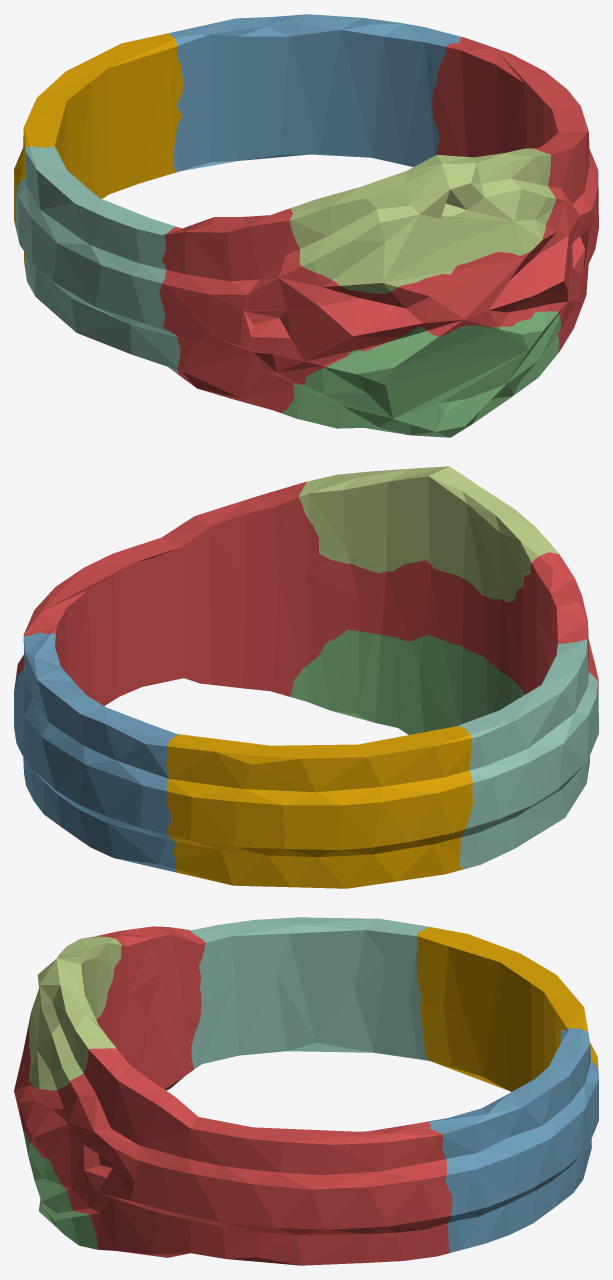
File: mode_7_6pcs.glb
The picture shows the model from 3 angles, top to bottom: view 1: azimuth 30°, elevation 25°; view 2: azimuth 150°, elevation 25°; view 3: azimuth 270°, elevation 25°; orthographic projection. The views are drawn at different scales.
Visible parts, largest first — view 1: piece_1.obj, piece_2.obj, piece_5.obj, piece_4.obj, piece_3.obj, piece_0.obj; view 2: piece_1.obj, piece_0.obj, piece_2.obj, piece_5.obj, piece_4.obj, piece_3.obj; view 3: piece_1.obj, piece_4.obj, piece_2.obj, piece_0.obj, piece_5.obj, piece_3.obj.
Part boxes in pixels (x1,y1,x2,y2): piece_1.obj: (159, 37, 598, 412); piece_2.obj: (169, 14, 461, 172); piece_5.obj: (289, 148, 555, 293); piece_4.obj: (15, 146, 180, 373); piece_3.obj: (281, 311, 561, 437); piece_0.obj: (14, 33, 183, 271); piece_1.obj: (16, 481, 598, 758); piece_0.obj: (166, 726, 472, 888); piece_2.obj: (14, 632, 178, 872); piece_5.obj: (299, 466, 558, 602); piece_4.obj: (458, 639, 598, 869); piece_3.obj: (290, 629, 524, 734); piece_1.obj: (14, 926, 452, 1265); piece_4.obj: (189, 917, 432, 1069); piece_2.obj: (428, 1028, 598, 1252); piece_0.obj: (417, 927, 598, 1091); piece_5.obj: (28, 936, 121, 1090); piece_3.obj: (22, 1126, 97, 1249).
Size of the model in its own units: 0.9505 by 0.4981 by 1.
